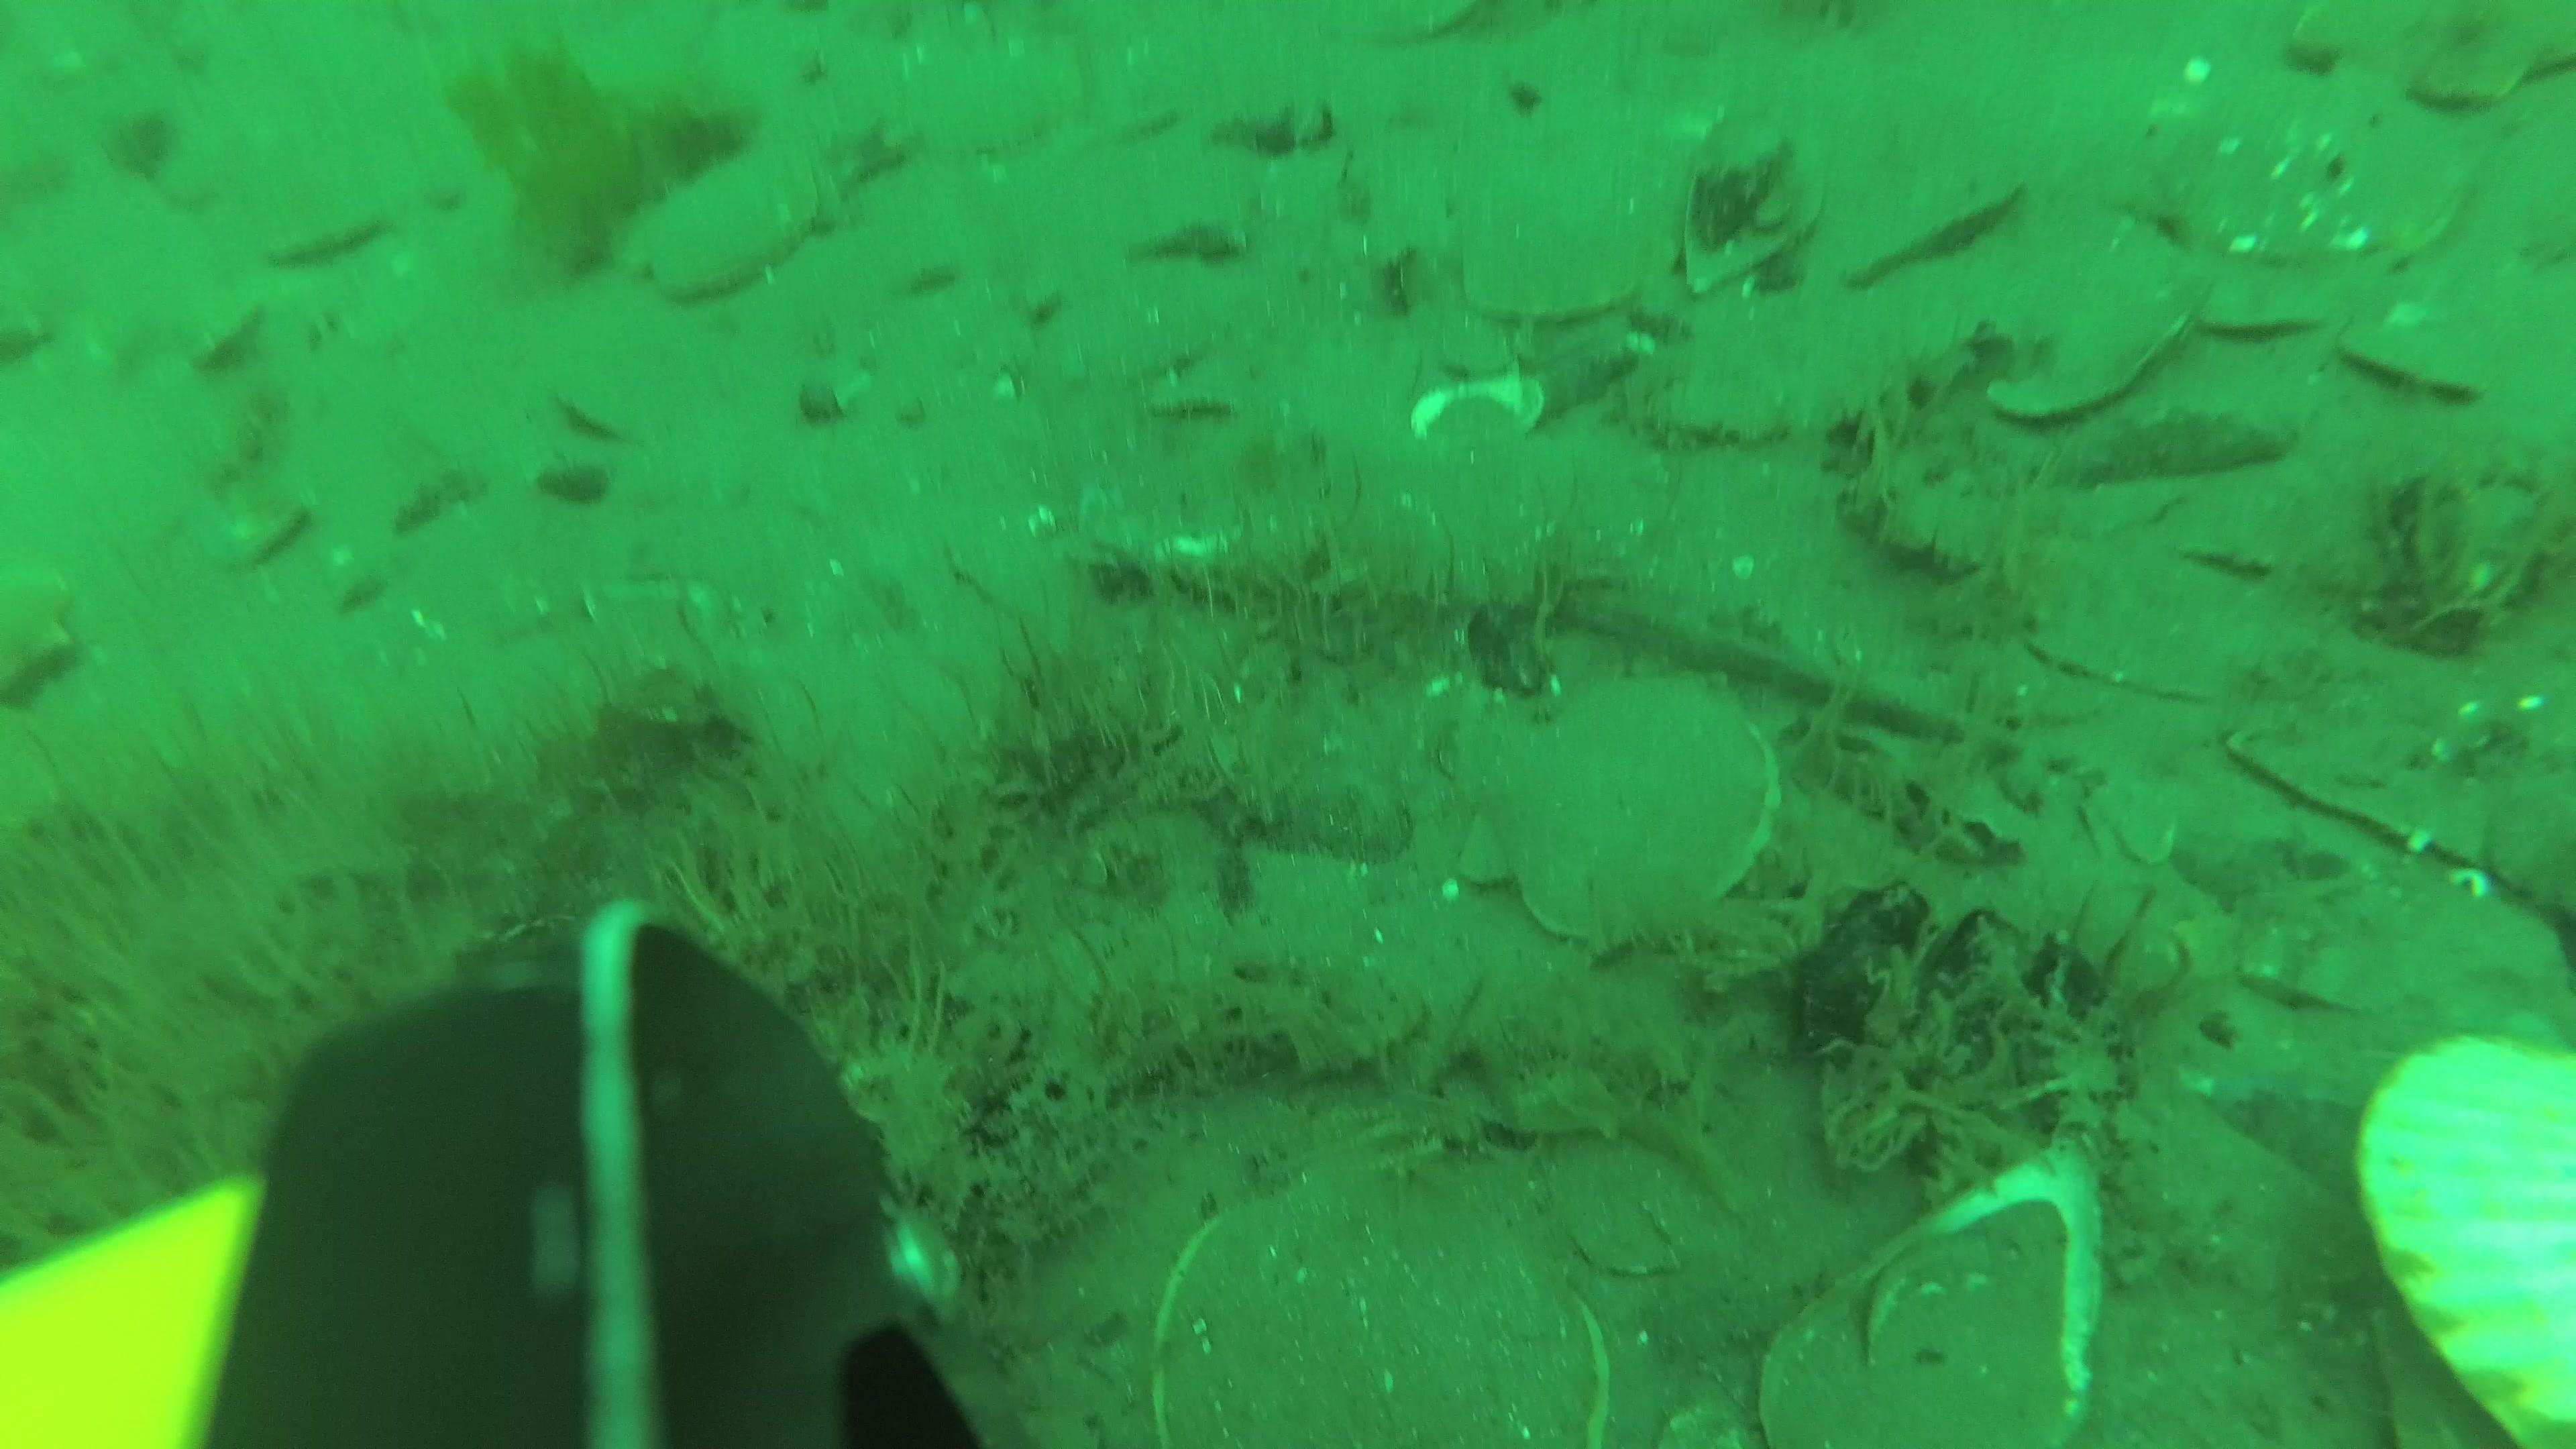scallop: (2358, 1001, 2574, 1449), (1460, 658, 1787, 950), (2169, 92, 2470, 280), (1969, 257, 2213, 414), (623, 147, 846, 304), (2291, 7, 2576, 122), (1465, 189, 1661, 338), (1838, 157, 2036, 290), (913, 53, 1090, 165), (2337, 310, 2489, 403), (2196, 248, 2344, 336), (2, 559, 81, 718)
